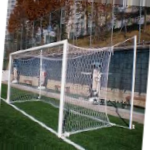goals: (7, 37, 115, 139)
